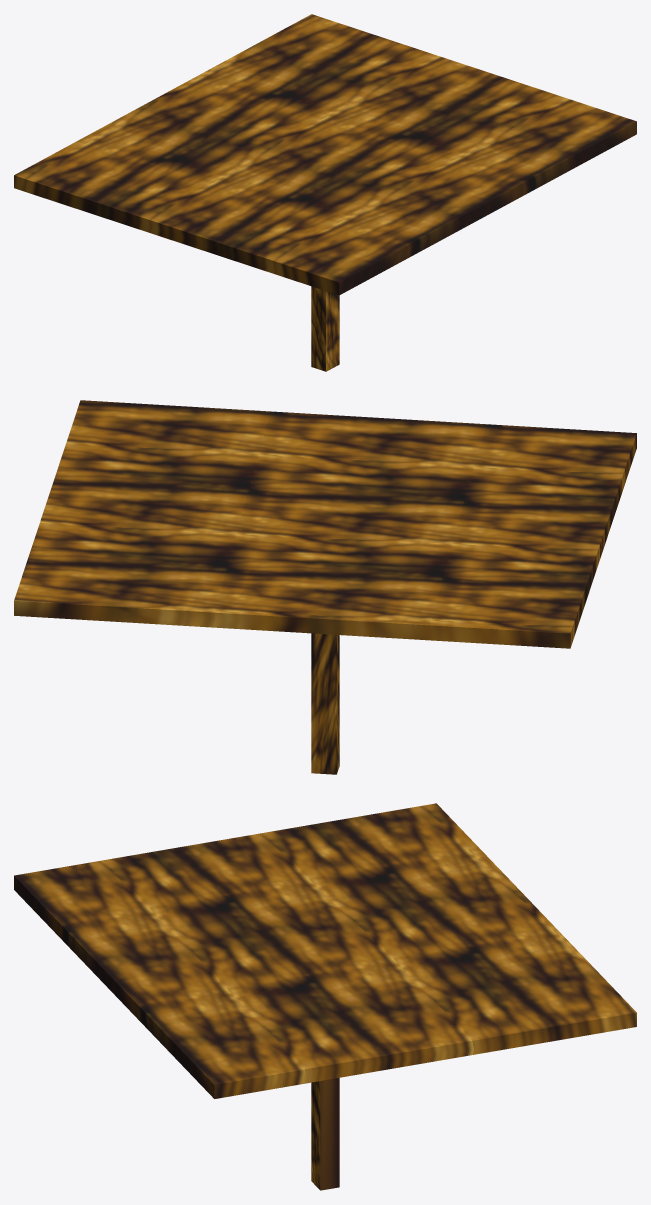
File: WoodenPlaza.gltf
3 renders of one model, top to bottom at view 1: azimuth 30°, elevation 25°; view 2: azimuth 150°, elevation 25°; view 3: azimuth 270°, elevation 25°, orthographic. The views are drawn at different scales.
Visible parts, largest first — view 1: WoodenPlaza; view 2: WoodenPlaza; view 3: WoodenPlaza.
Part boxes in pixels (x1=…): WoodenPlaza: x1=14, y1=14, x2=636, y2=371; WoodenPlaza: x1=14, y1=400, x2=636, y2=774; WoodenPlaza: x1=14, y1=803, x2=636, y2=1190.
Bounding box in the file's own units: 39.24 × 15.6 × 36.68.
Materials: 1 (1 with a texture image).
